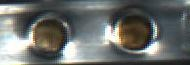joints: (20, 11, 77, 65), (106, 4, 164, 56)
